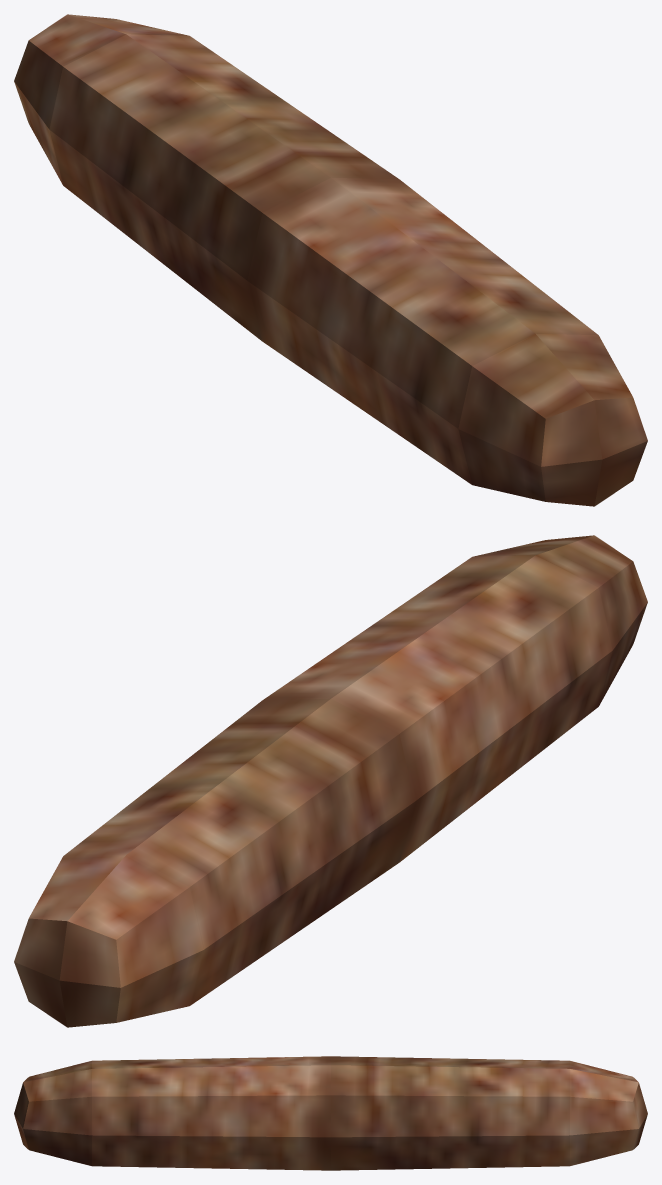
Rendered from skippey_wholecrack.fbx.
3 views of the same model, one above another, from view 1: azimuth 30°, elevation 25°; view 2: azimuth 150°, elevation 25°; view 3: azimuth 270°, elevation 25° (orthographic). The views are drawn at different scales.
Visible parts, largest first — view 1: skippey wholecrack; view 2: skippey wholecrack; view 3: skippey wholecrack.
Part boxes in pixels (x1,y1,x2,y2): skippey wholecrack: (14, 14, 647, 506); skippey wholecrack: (14, 535, 647, 1027); skippey wholecrack: (14, 1056, 647, 1170).
Bounding box in the file's own units: 0.2082 × 1.17 × 0.1968.
